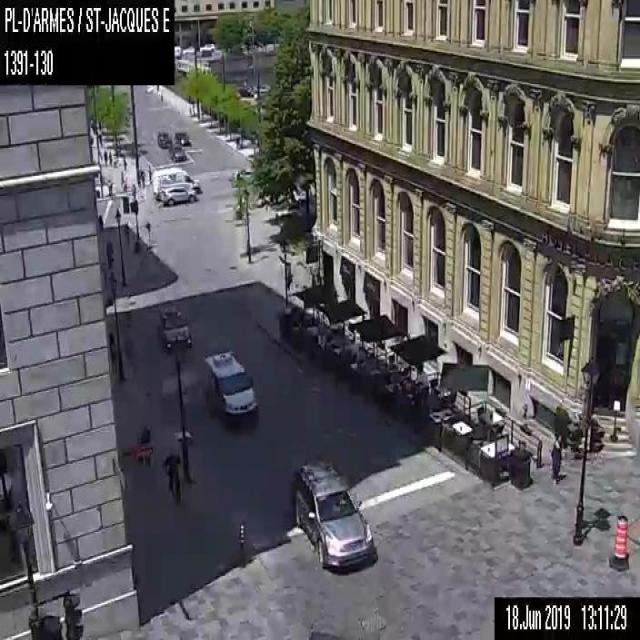construction: (607, 512, 629, 573)
pedestrian: (162, 442, 181, 506), (549, 428, 564, 481), (106, 325, 118, 375), (138, 421, 151, 467), (121, 150, 127, 170), (102, 146, 108, 166), (97, 212, 104, 229), (107, 178, 112, 198), (140, 166, 144, 188), (147, 163, 151, 183), (108, 147, 112, 166)
vehicle: (286, 451, 378, 576), (201, 348, 259, 429), (157, 303, 192, 352), (152, 165, 199, 201), (160, 184, 195, 206), (167, 143, 186, 161), (156, 131, 172, 148), (173, 131, 189, 145), (199, 42, 214, 52), (182, 44, 194, 55)
